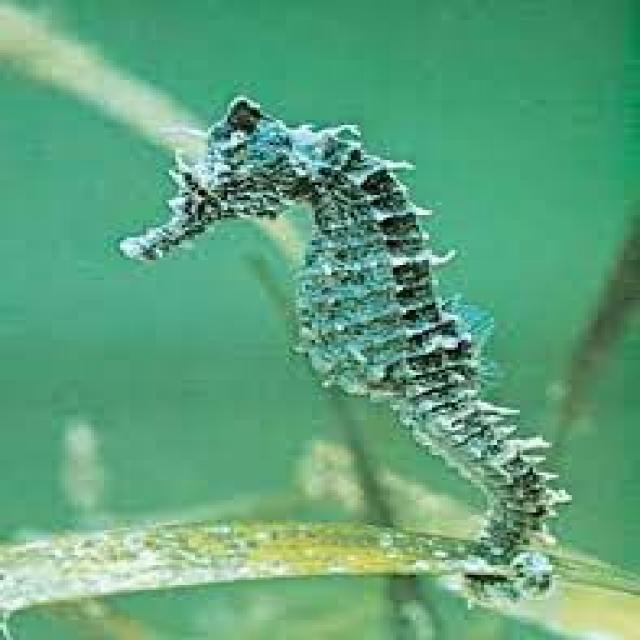SeaHorse: (117, 95, 565, 600)
